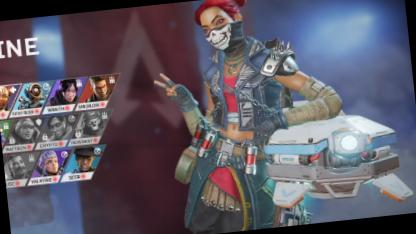Target: (178, 0, 294, 224)
